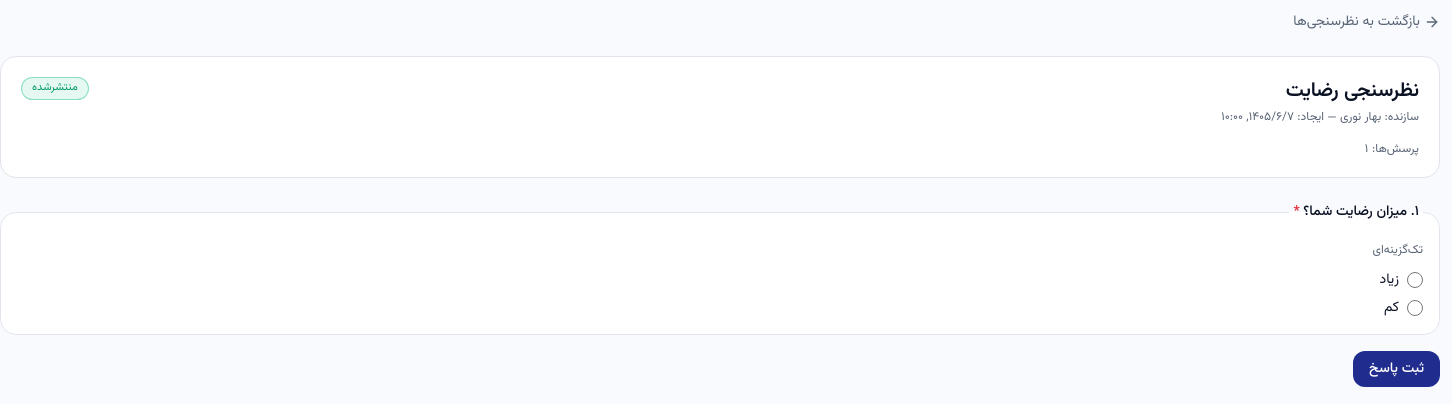
Test: CoreSurveyDetailView › participation and the one-response rule › reports a 409 second submission and re-reads the survey
Expected: the form with test id "survey-response-form" is shown, [0,202,1440,387]
Click the radio button labelled "زیاد".
click(1415, 280)  # box [1407,272,1423,288]
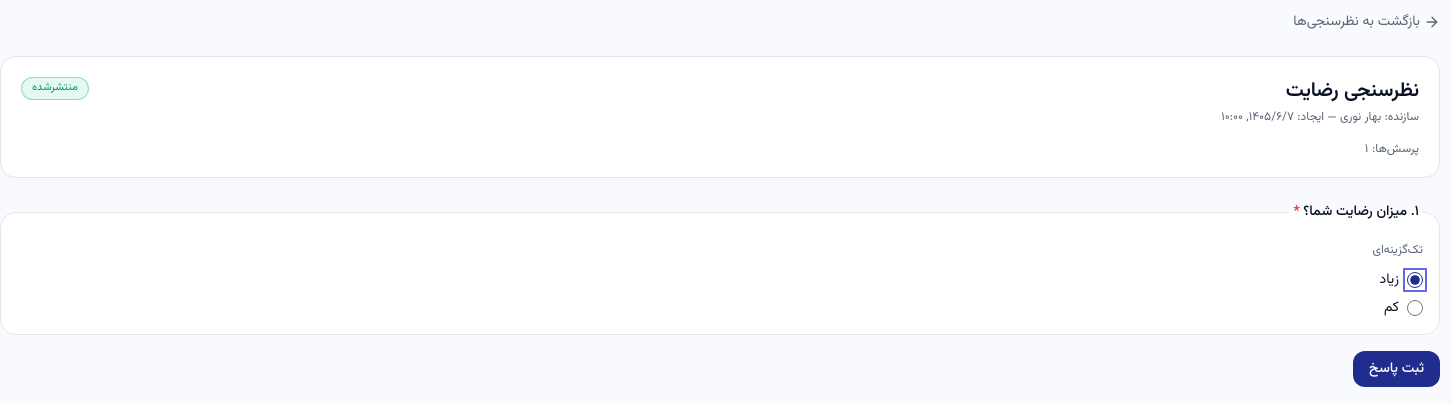
Click the button with test id "survey-submit".
click(1396, 369)  # box [1353,351,1440,387]
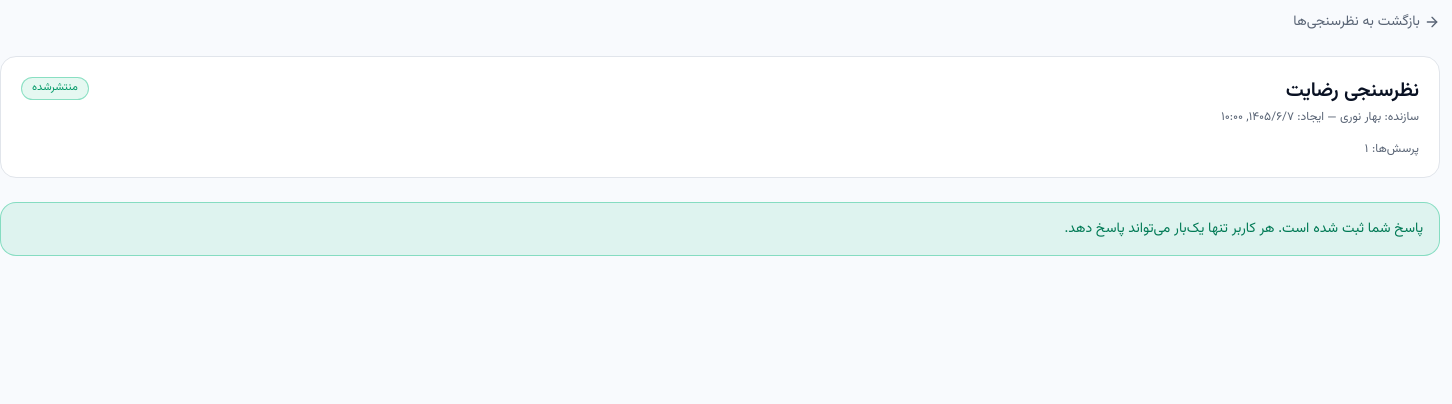
Expected: the text with test id "survey-already-responded" is shown, [0,202,1440,256]
Expected: the form with test id "survey-response-form" is gone
